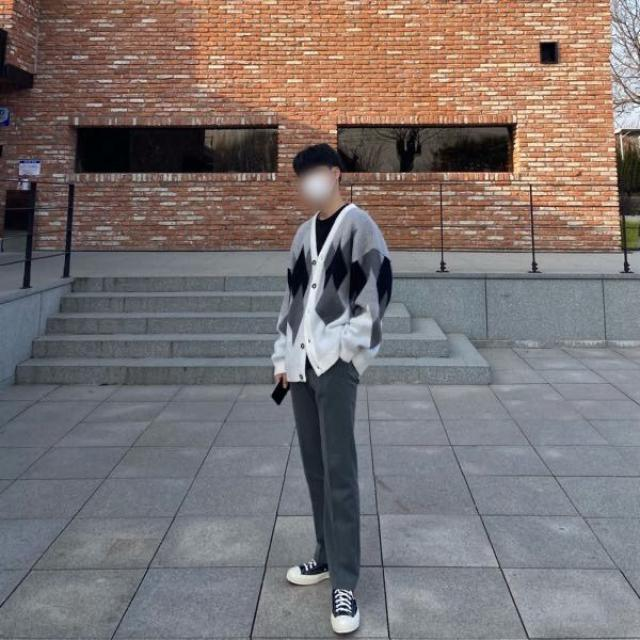cardigan: (272, 201, 392, 384)
slacks: (283, 346, 364, 592)
